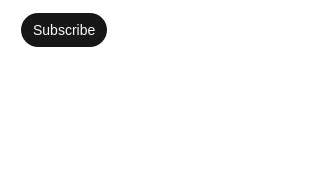
Test: SubscriptionButton › rolls back the optimistic UI when the request fails
The image size is (332, 172).
Click the button "Subscribe".
click(64, 30)  # box [20,12,108,48]
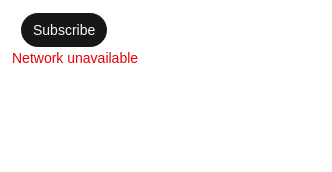
Now the message reads "Network unavailable", box [12,50,138,66]
